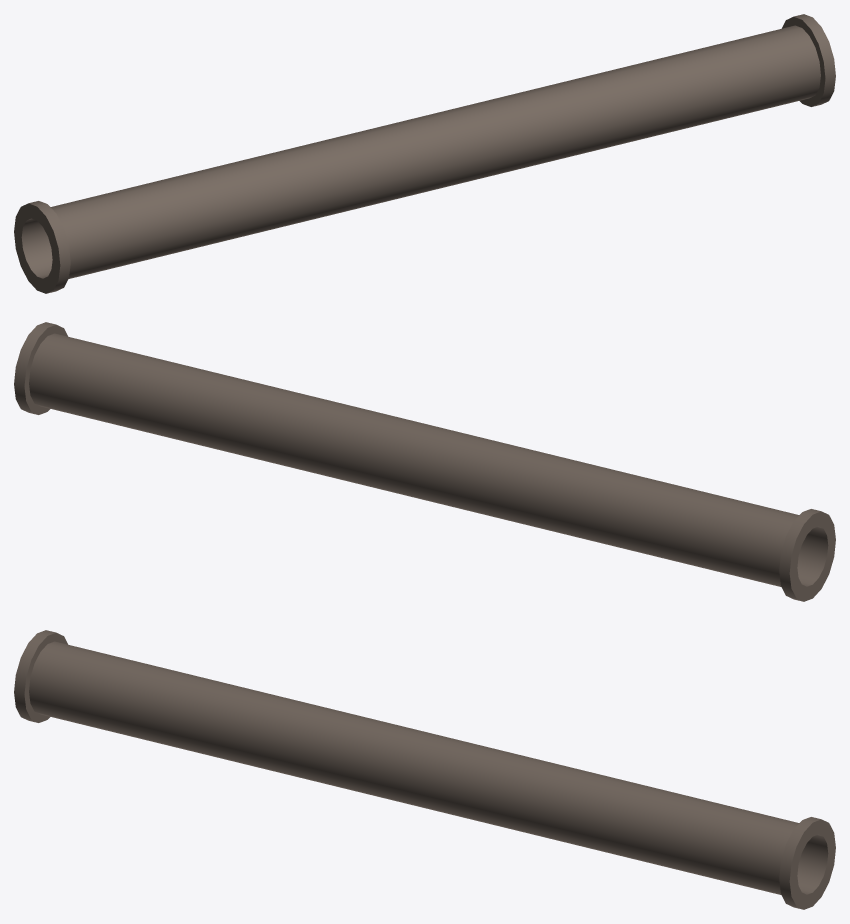
Rendered from pipe_2.fbx.
3 renders of one model, top to bottom at view 1: azimuth 30°, elevation 25°; view 2: azimuth 150°, elevation 25°; view 3: azimuth 330°, elevation 25°, orthographic.
Visible parts, largest first — view 1: pipe_2; view 2: pipe_2; view 3: pipe_2.
Part boxes in pixels (left/top/right/bottom): pipe_2: left=14, top=14, right=835, bottom=293; pipe_2: left=14, top=322, right=835, bottom=601; pipe_2: left=14, top=630, right=835, bottom=909.
Size of the model in its own units: 1200 by 124 by 124.
